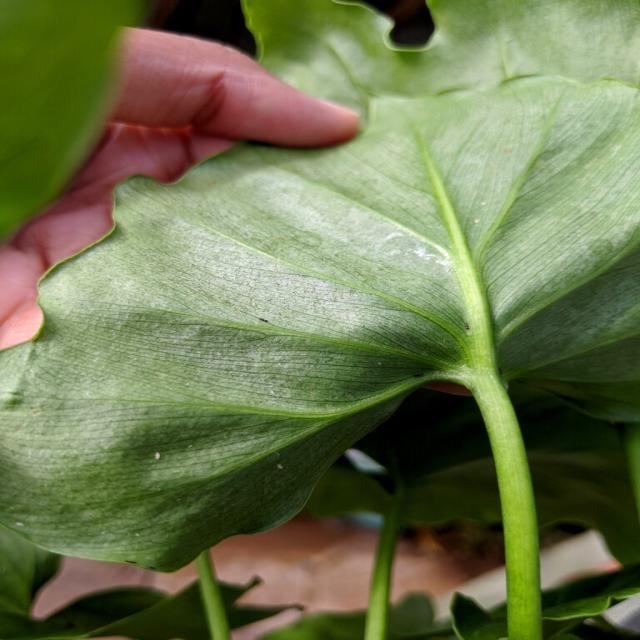Thrip-Adult-: (254, 314, 275, 324)
Thrip-Larva-: (12, 520, 28, 528), (153, 450, 164, 460), (275, 463, 286, 471)
